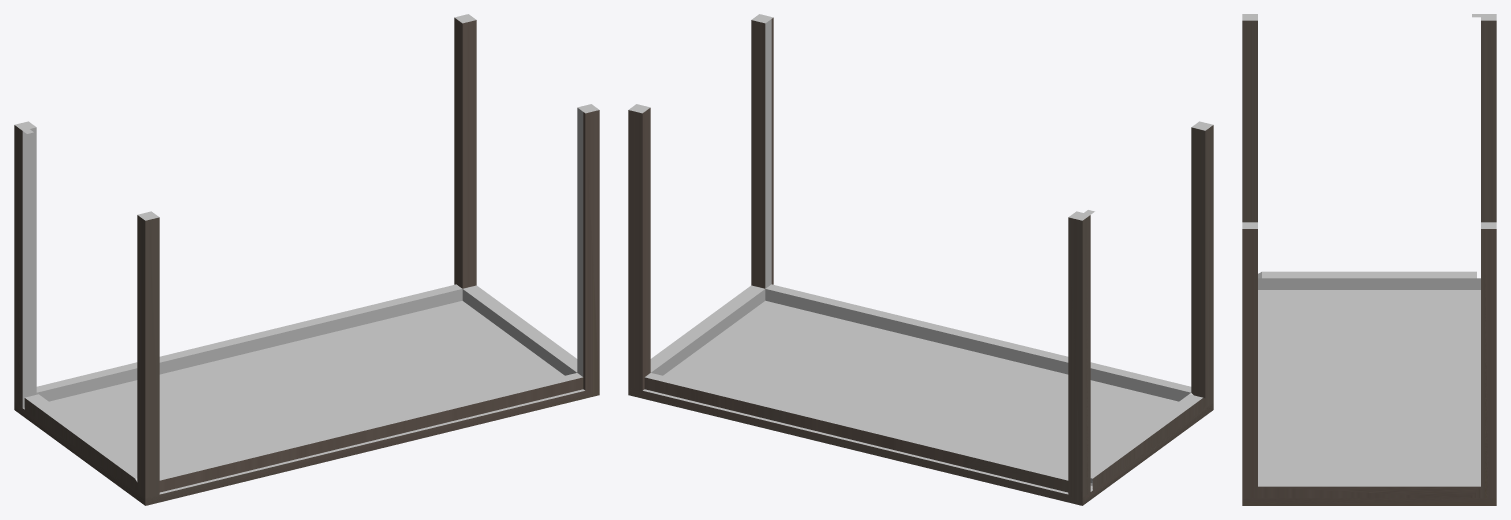
Rendered from TableTD.fbx.
3 views of the same model, side by side, from view 1: azimuth 30°, elevation 25°; view 2: azimuth 150°, elevation 25°; view 3: azimuth 270°, elevation 25° (orthographic). The views are drawn at different scales.
Parts seen in each view (by area): view 1: pCube1; view 2: pCube1; view 3: pCube1.
Part boxes in pixels (bbox=[...]): pCube1: bbox=[14, 14, 599, 505]; pCube1: bbox=[628, 14, 1213, 505]; pCube1: bbox=[1242, 14, 1496, 505].
Bounding box in the file's own units: 12 × 7.2 × 6.
